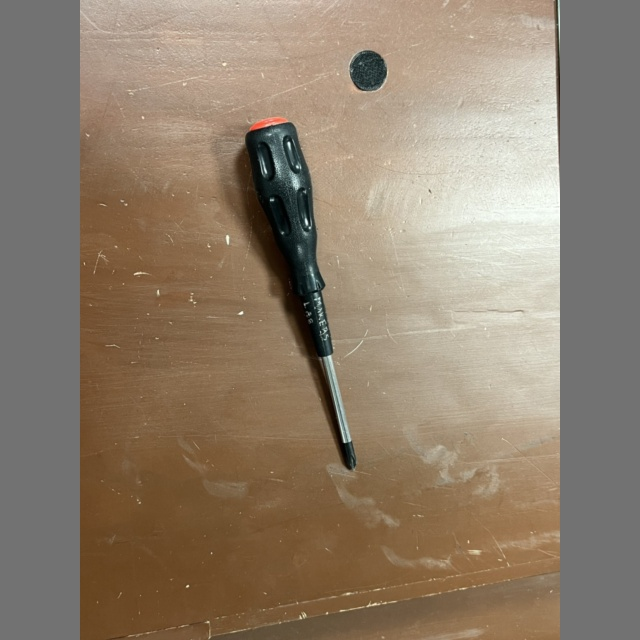screwdriver: (246, 117, 357, 469)
